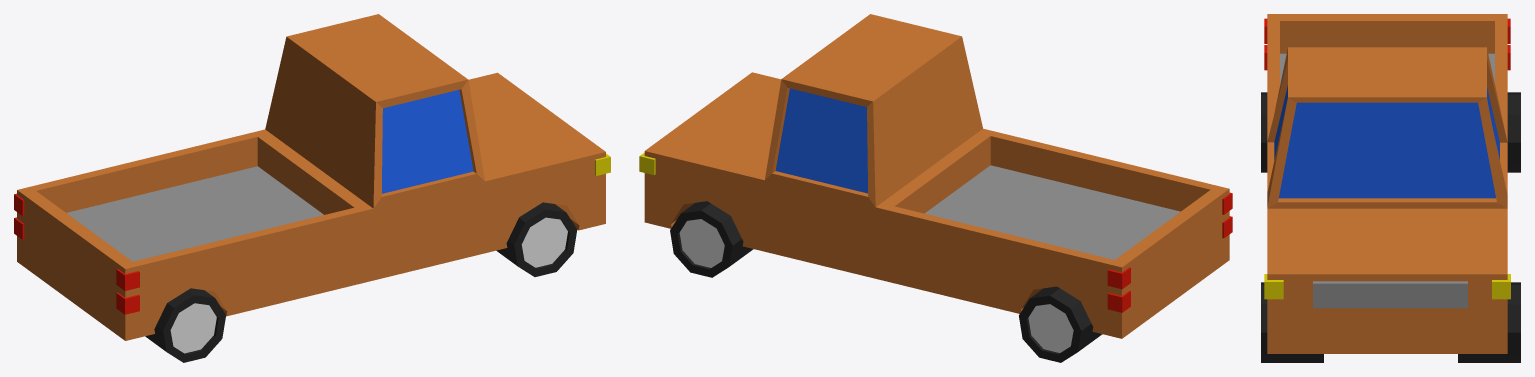
Rendered from car4.fbx.
3 views of the same model, side by side, from view 1: azimuth 30°, elevation 25°; view 2: azimuth 150°, elevation 25°; view 3: azimuth 270°, elevation 25° (orthographic). The views are drawn at different scales.
Visible parts, largest first — view 1: car; view 2: car; view 3: car.
Part boxes in pixels (box(x1,y1,x2,y2)): car: box(14, 14, 610, 362); car: box(639, 14, 1232, 362); car: box(1261, 14, 1520, 362).
Bounding box in the file's own units: 482 × 191 × 201.
